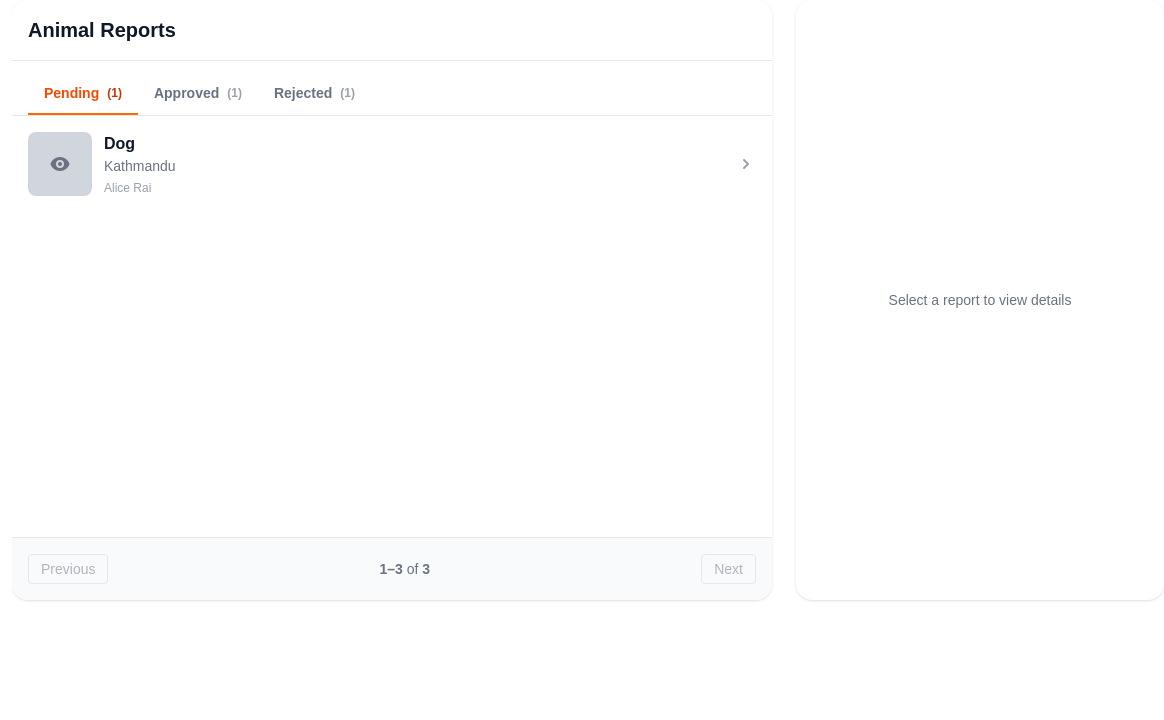
Test: AdminReportsPage — filter switching › shows rejected species when Rejected tab is clicked
This screenshot has width=1164, height=720.
Click the button "Rejected (1)" at (314, 94), box [258, 73, 371, 115]
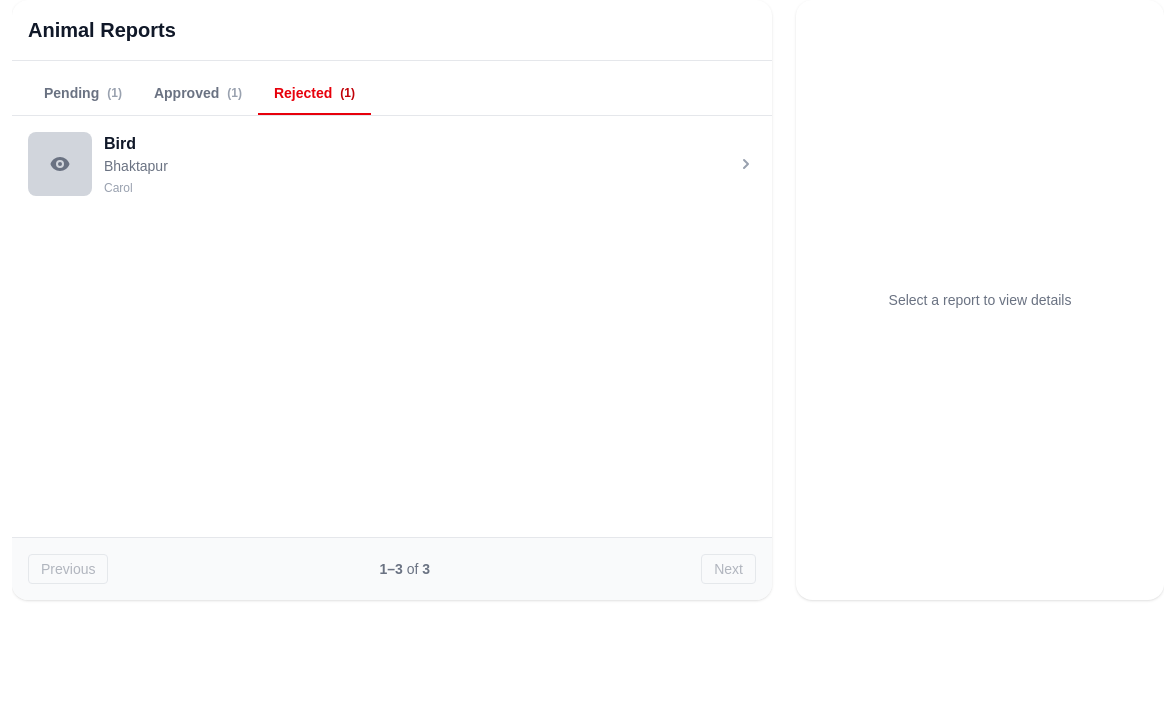
Check: the heading "Bird" is shown, box [104, 135, 136, 152]
